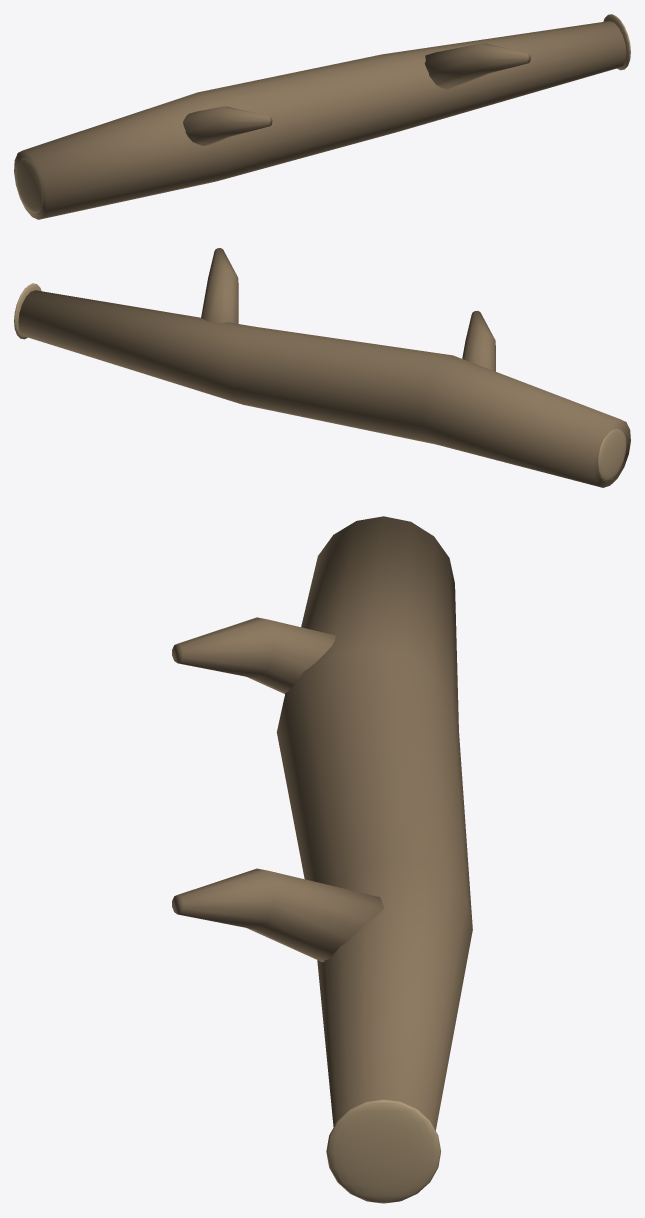
File: fallen_log.glb
The picture shows the model from 3 angles, top to bottom: view 1: azimuth 30°, elevation 25°; view 2: azimuth 150°, elevation 25°; view 3: azimuth 270°, elevation 25°; orthographic projection. The views are drawn at different scales.
Parts seen in each view (by area): view 1: FallenWood, BrokenBranch.001, BrokenBranch, ExposedWood, ExposedWood.001; view 2: FallenWood, BrokenBranch.001, BrokenBranch, ExposedWood, ExposedWood.001; view 3: FallenWood, BrokenBranch.001, ExposedWood.001, BrokenBranch.
Part boxes in pixels (<box>): FallenWood: <box>14,21,626,219</box>; BrokenBranch.001: <box>424,43,530,89</box>; BrokenBranch: <box>183,106,272,145</box>; ExposedWood: <box>16,158,43,213</box>; ExposedWood.001: <box>603,14,630,70</box>; FallenWood: <box>18,290,630,487</box>; BrokenBranch.001: <box>201,248,238,323</box>; BrokenBranch: <box>462,310,495,371</box>; ExposedWood: <box>597,429,626,481</box>; ExposedWood.001: <box>14,283,41,339</box>; FallenWood: <box>276,516,472,1130</box>; BrokenBranch.001: <box>172,868,383,962</box>; ExposedWood.001: <box>326,1099,440,1203</box>; BrokenBranch: <box>172,617,335,693</box>.
Size of the model in its own units: 3.44 by 0.5241 by 0.7592.
